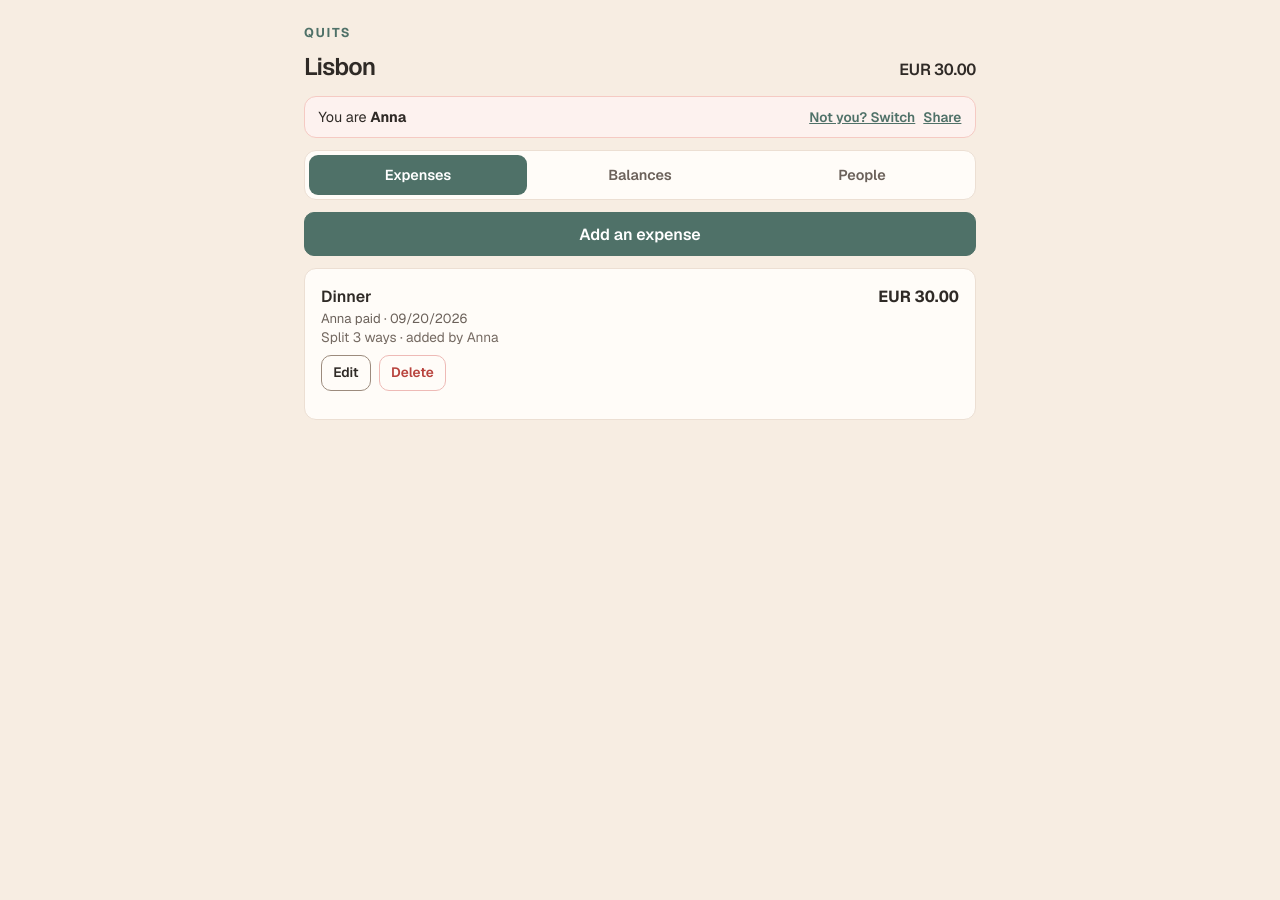
it: editing and deleting — SPEC §7.15 and §7.16 › edits an expense, switching split mode, and replaces the splits
Click the button "Edit" at coordinates (346, 372), box [321,354,371,390]
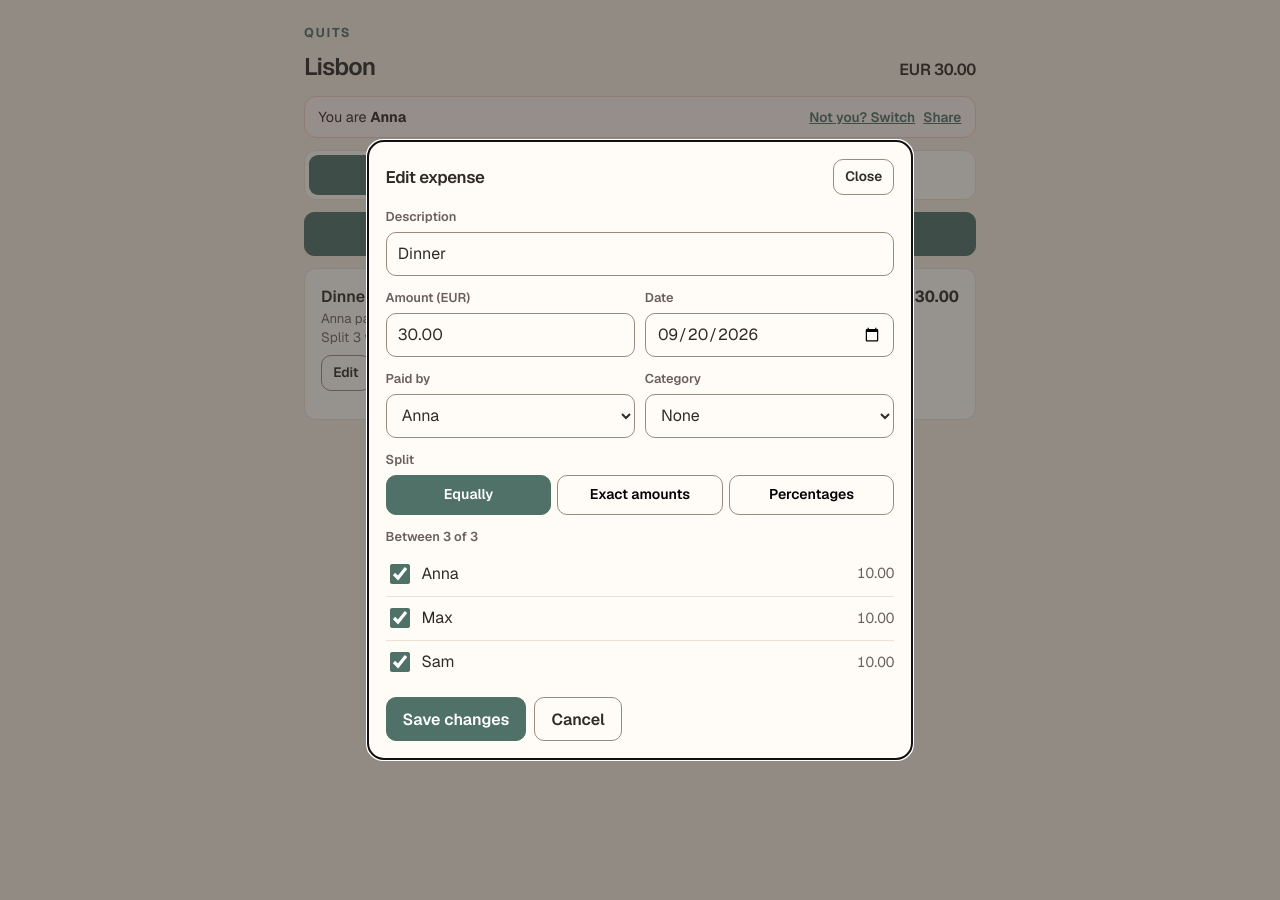
Click the button "Exact amounts" at coordinates (640, 495), box [557,475,723,515]
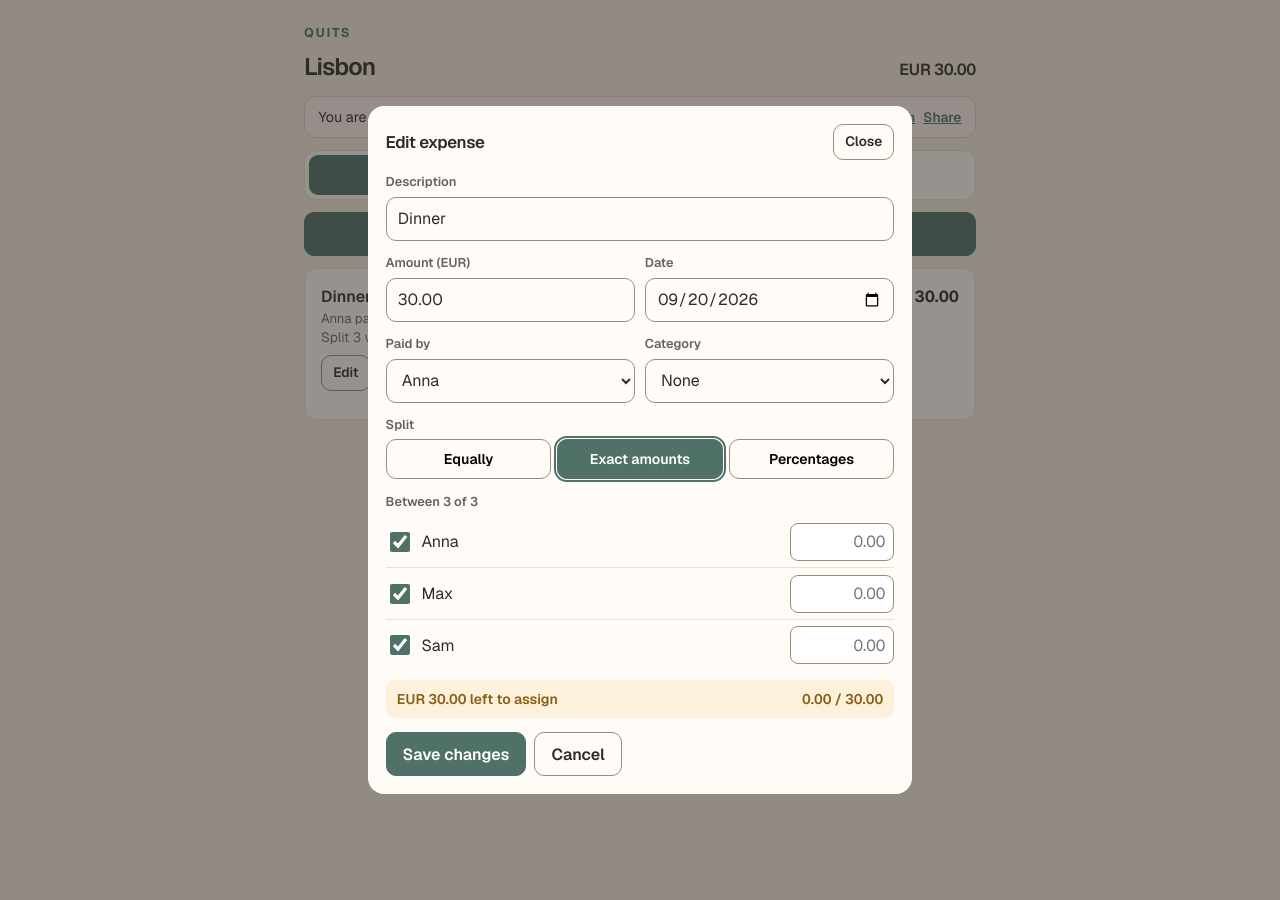
Type "10.00" into the field named "amount for anna" at coordinates (842, 542), box [790,523,894,561]
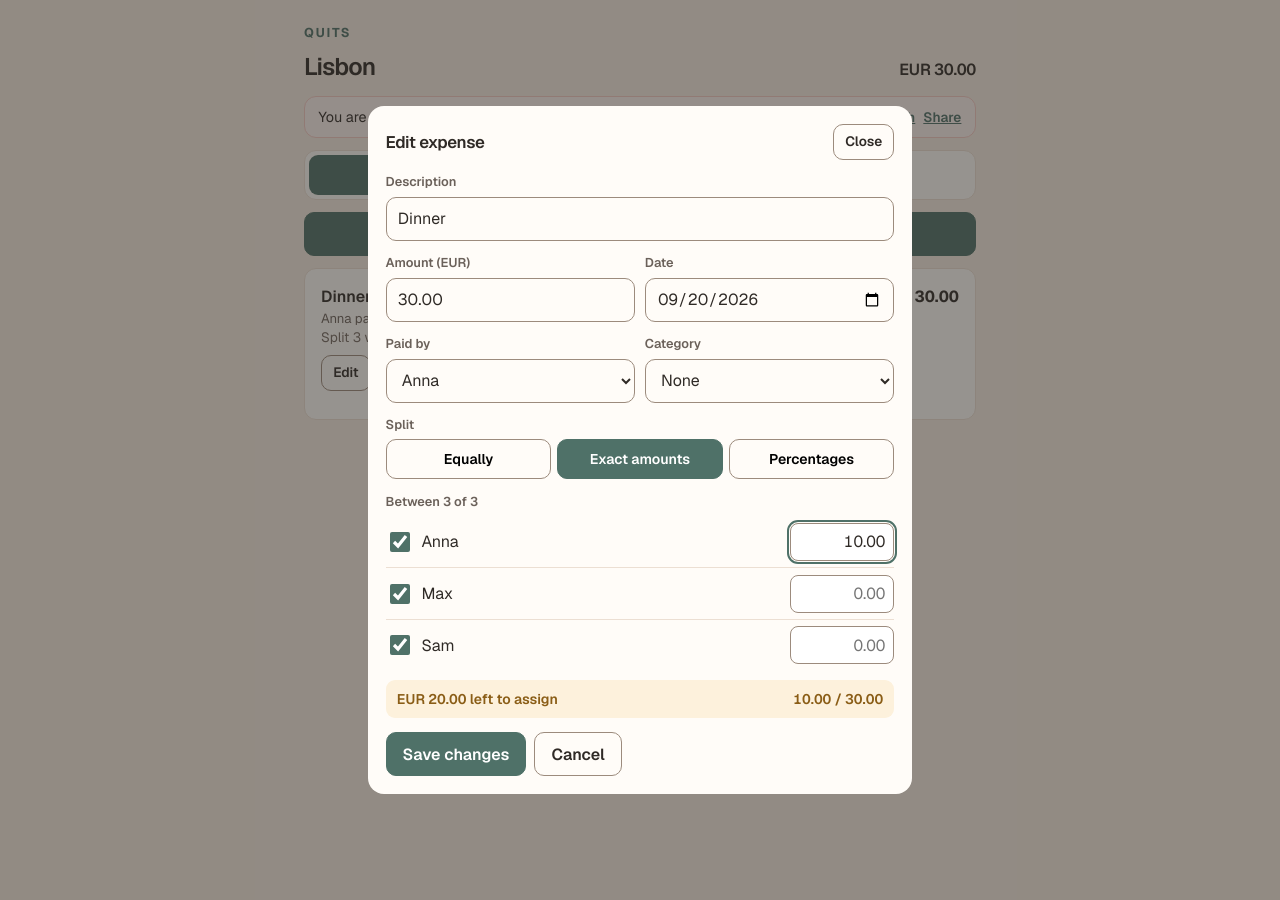
Type "15.00" into the field named "amount for max" at coordinates (842, 594), box [790,575,894,613]
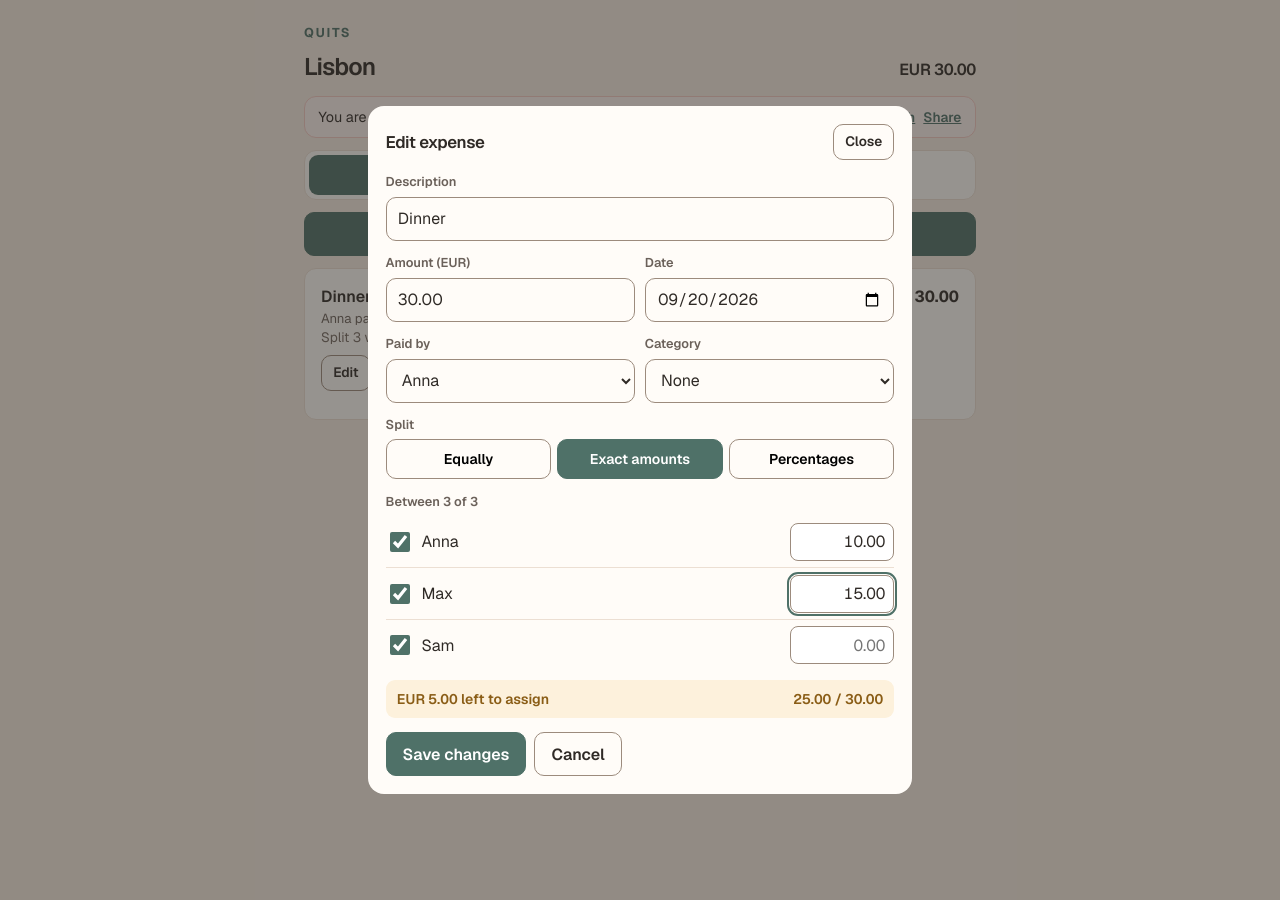
Type "5.00" into the field named "amount for sam" at coordinates (842, 645), box [790,626,894,664]
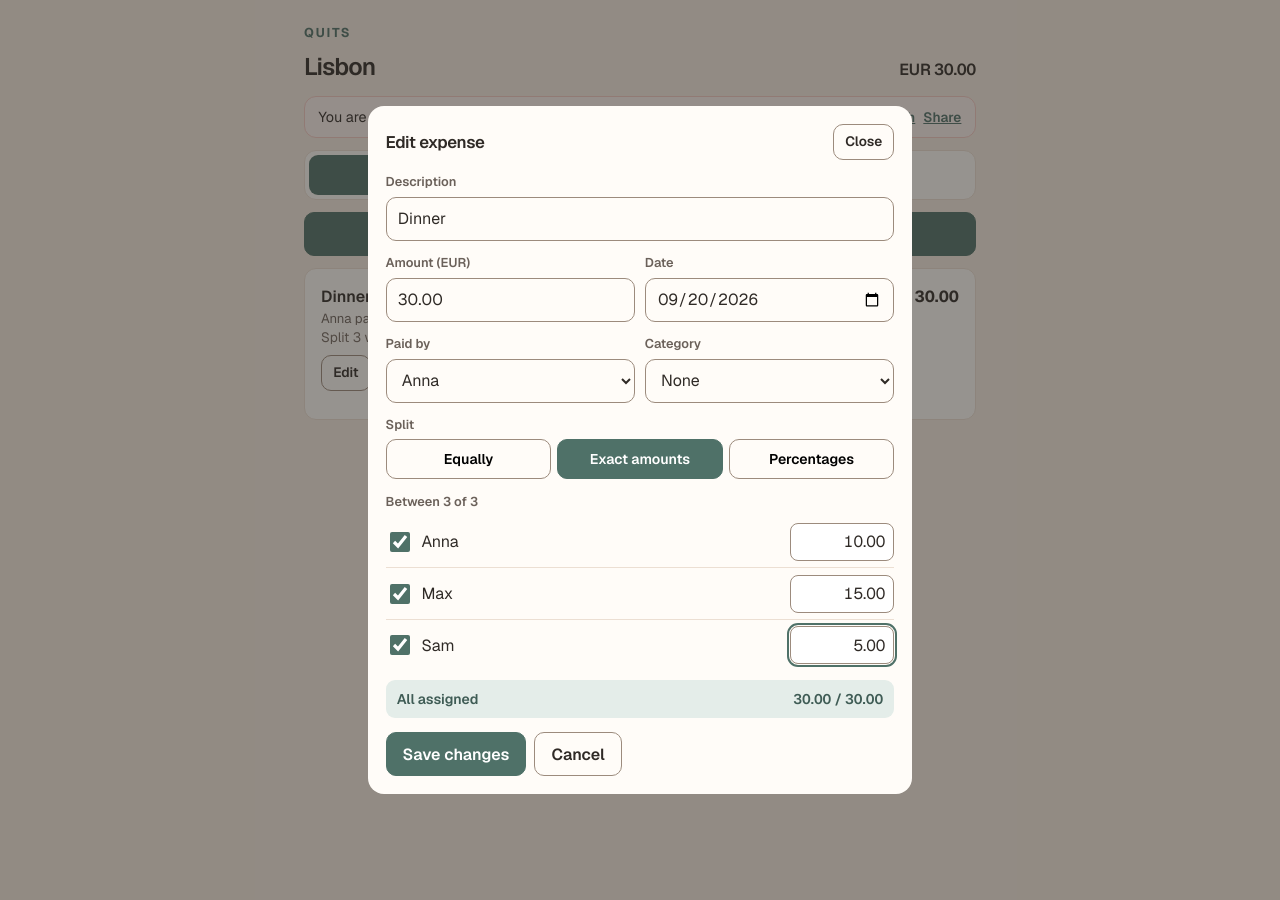
Click the button "Save changes" at coordinates (456, 754), box [386,732,526,776]
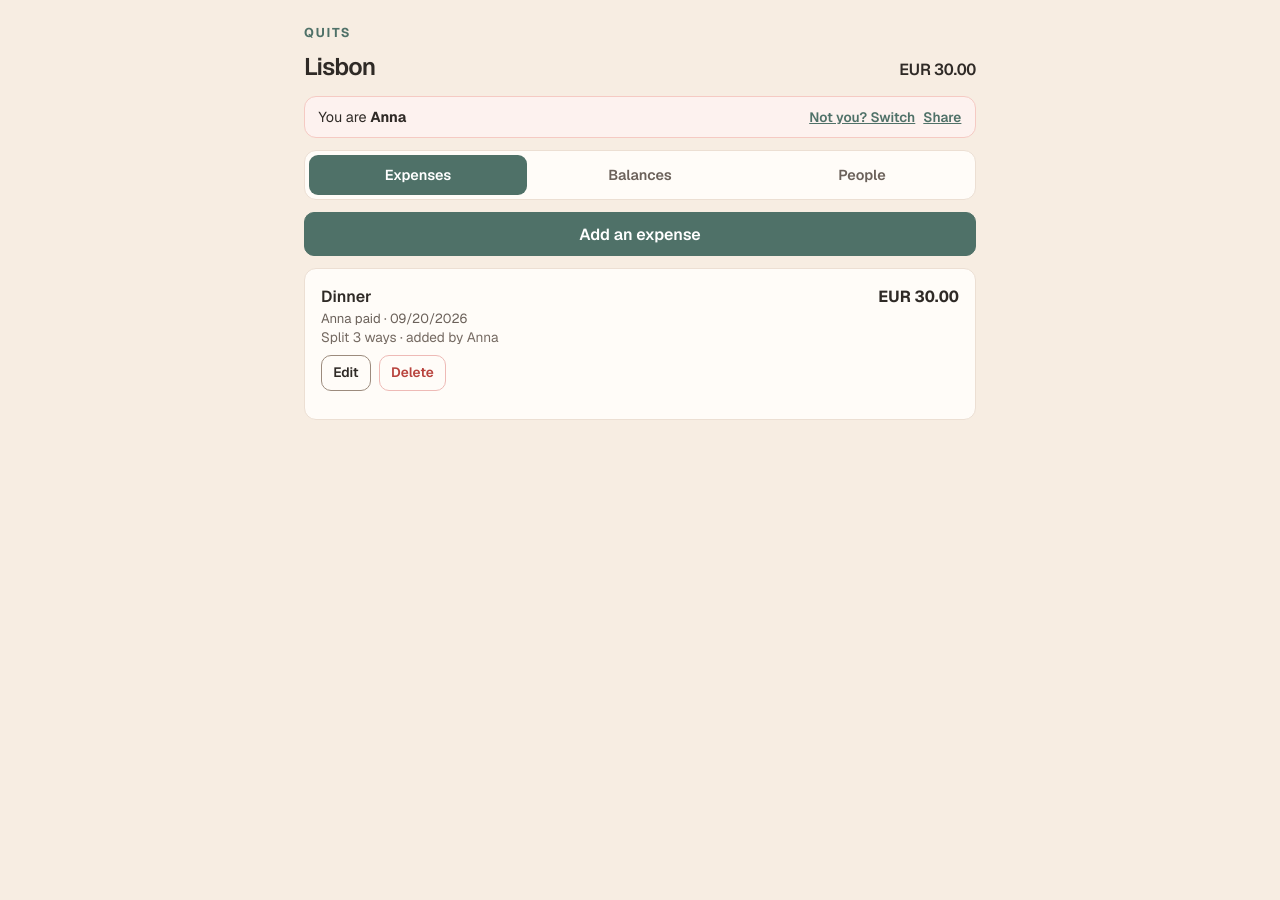
Expected: the dialog is gone
